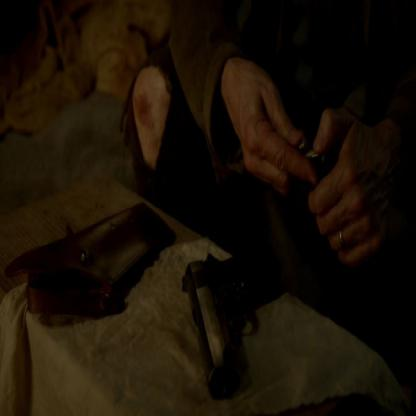Guns: (179, 239, 288, 401)
